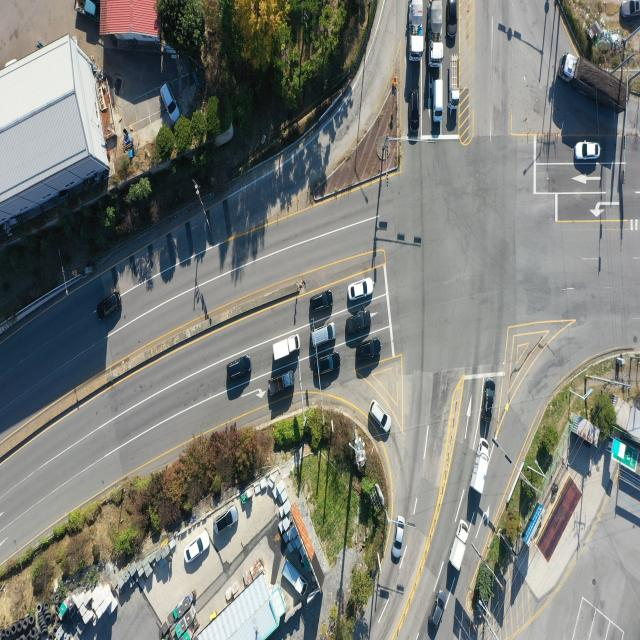car: (182, 532, 210, 567), (215, 504, 240, 538), (428, 590, 448, 630), (96, 290, 121, 321), (370, 400, 392, 435), (224, 355, 250, 381), (316, 352, 344, 376), (311, 357, 338, 381), (161, 86, 179, 122), (348, 278, 374, 302), (312, 326, 338, 350), (356, 338, 382, 362), (482, 378, 496, 421), (346, 314, 371, 338), (408, 87, 421, 131), (312, 291, 336, 314), (432, 78, 444, 124), (574, 140, 600, 161), (392, 516, 404, 560), (448, 0, 458, 44), (620, 0, 640, 19)
medium_truck: (560, 55, 628, 113), (429, 0, 444, 62), (411, 0, 426, 60)
small_truck: (471, 438, 492, 498), (448, 520, 468, 573), (282, 555, 306, 594), (271, 336, 300, 364), (269, 370, 295, 396), (71, 0, 99, 22), (449, 57, 460, 104)
